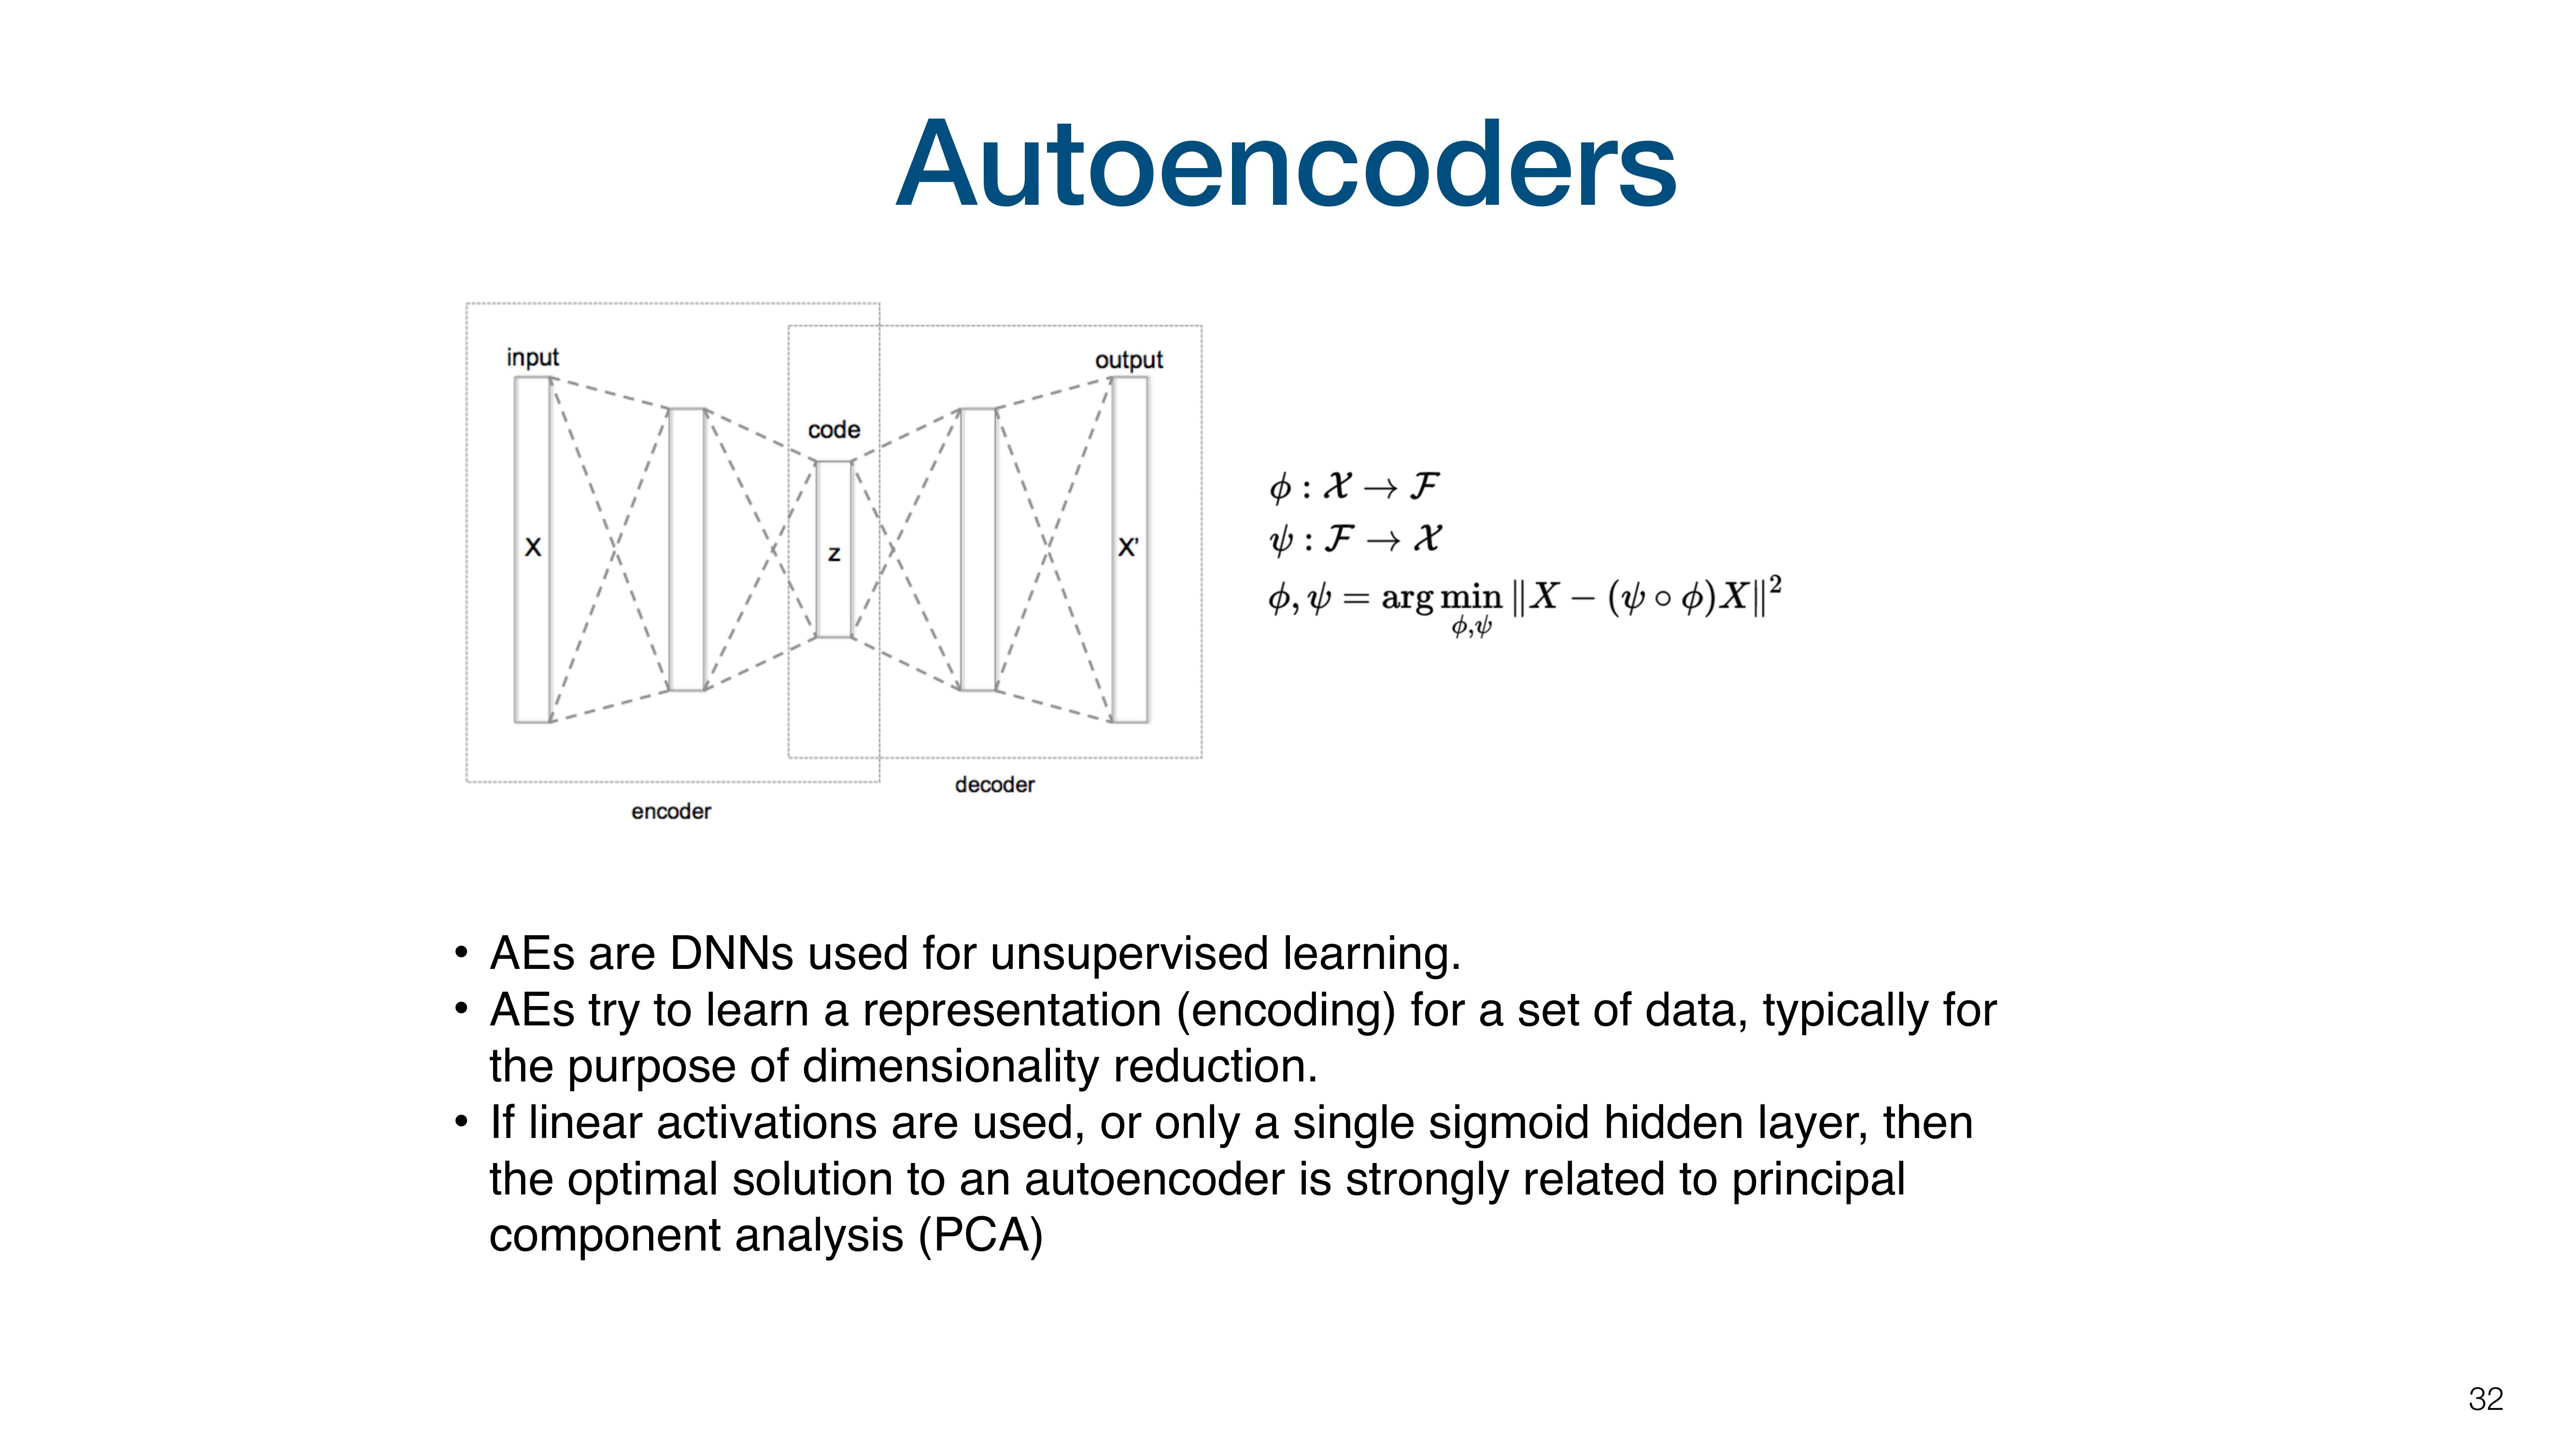Title: (885, 92, 1690, 235)
